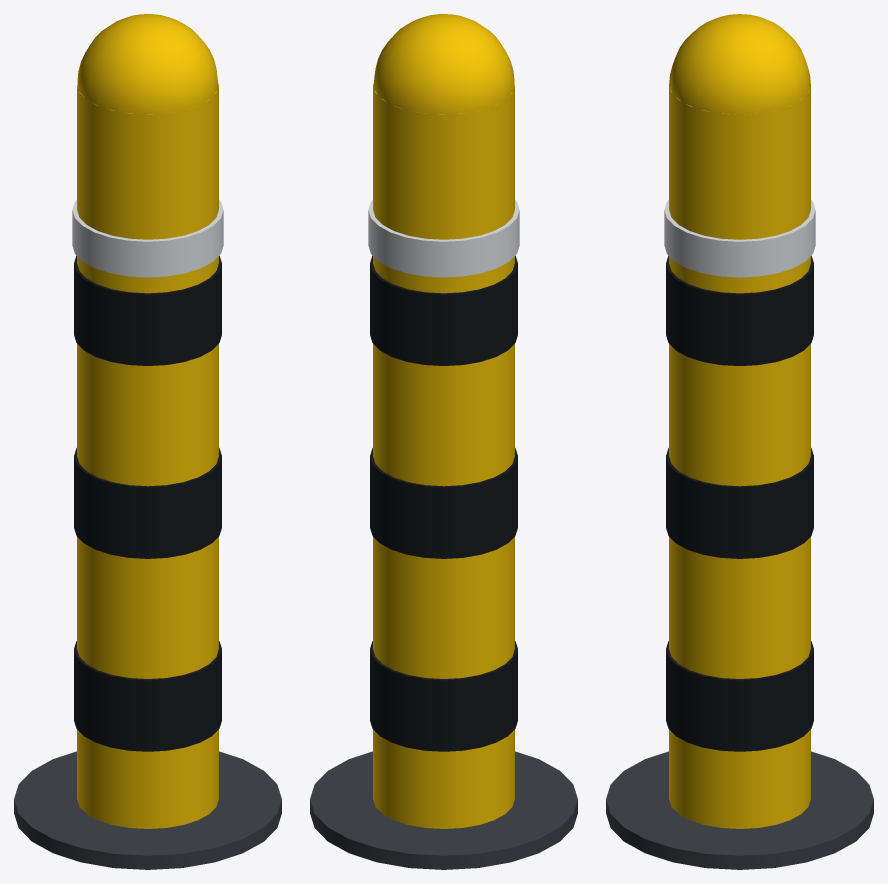
File: Bollard.glb
3 views of the same model, side by side, from view 1: azimuth 30°, elevation 25°; view 2: azimuth 150°, elevation 25°; view 3: azimuth 270°, elevation 25° (orthographic).
Visible parts, largest first — view 1: Asset; view 2: Asset; view 3: Asset.
Boxes of the visible parts, x1=… form: Asset: x1=14, y1=14, x2=281, y2=869; Asset: x1=310, y1=14, x2=577, y2=869; Asset: x1=606, y1=14, x2=873, y2=869.
Size of the model in its own units: 0.34 by 1.11 by 0.34.
